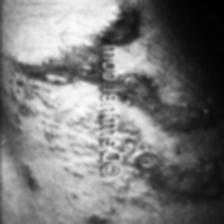Toxin: (125, 145, 224, 201), (120, 72, 206, 136), (30, 92, 96, 168), (18, 49, 97, 85), (110, 7, 136, 46)
